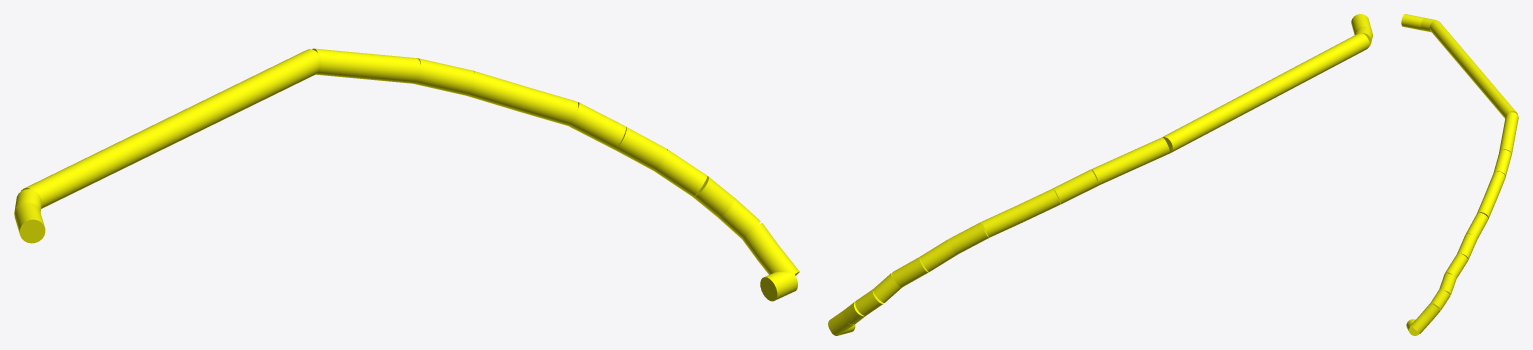
The picture shows the model from 3 angles, left to right: view 1: azimuth 30°, elevation 25°; view 2: azimuth 210°, elevation 25°; view 3: azimuth 270°, elevation 25°; orthographic projection. The views are drawn at different scales.
Parts seen in each view (by area): view 1: Cylinder(Clone) (×14); view 2: Cylinder(Clone) (×10); view 3: Cylinder(Clone) (×15).
Boxes of the visible parts, bbox=[...] form: Cylinder(Clone) (×14): bbox=[14, 48, 799, 301]; Cylinder(Clone) (×10): bbox=[855, 33, 1369, 315]; Cylinder(Clone) (×15): bbox=[1401, 14, 1518, 335].
Bounding box in the file's own units: 0.3487 × 0.1145 × 0.0897.
